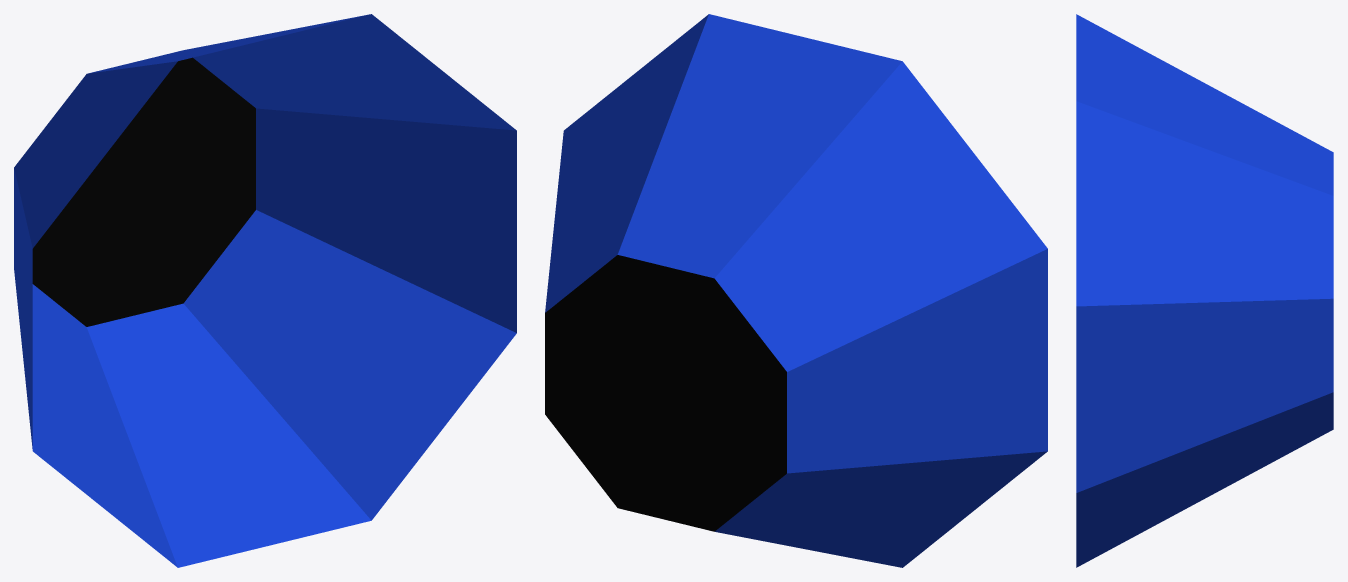
Rendered from engin.FBX.
3 views of the same model, side by side, from view 1: azimuth 30°, elevation 25°; view 2: azimuth 150°, elevation 25°; view 3: azimuth 270°, elevation 25° (orthographic). The views are drawn at different scales.
Visible parts, largest first — view 1: VIFS001, VIFS002; view 2: VIFS001, VIFS002; view 3: VIFS001.
Part boxes in pixels (x1=…): VIFS001: x1=14, y1=14, x2=516, y2=567; VIFS002: x1=32, y1=57, x2=255, y2=326; VIFS001: x1=545, y1=14, x2=1047, y2=567; VIFS002: x1=545, y1=255, x2=786, y2=531; VIFS001: x1=1076, y1=14, x2=1333, y2=567.
Bounding box in the file's own units: 0.2 × 0.2 × 0.1.
